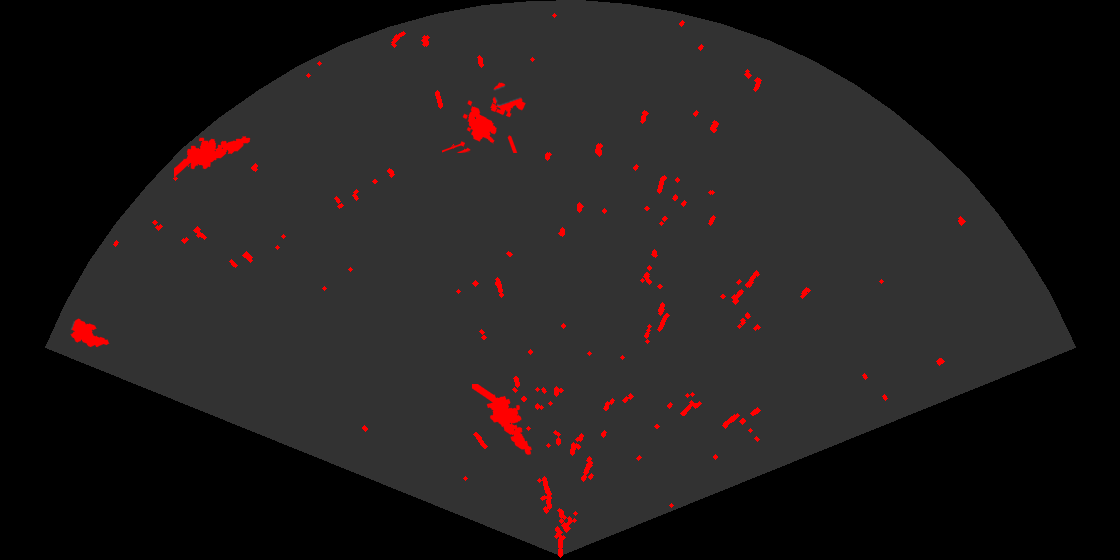AUV: (69, 317, 111, 349)
cage: (442, 81, 527, 153)
frogman: (472, 384, 533, 457), (174, 135, 252, 179)
